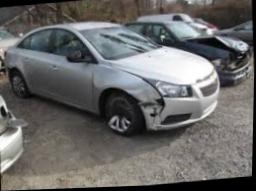Bumper: (142, 103, 164, 130)
Fender: (92, 63, 165, 111), (4, 50, 24, 75)
